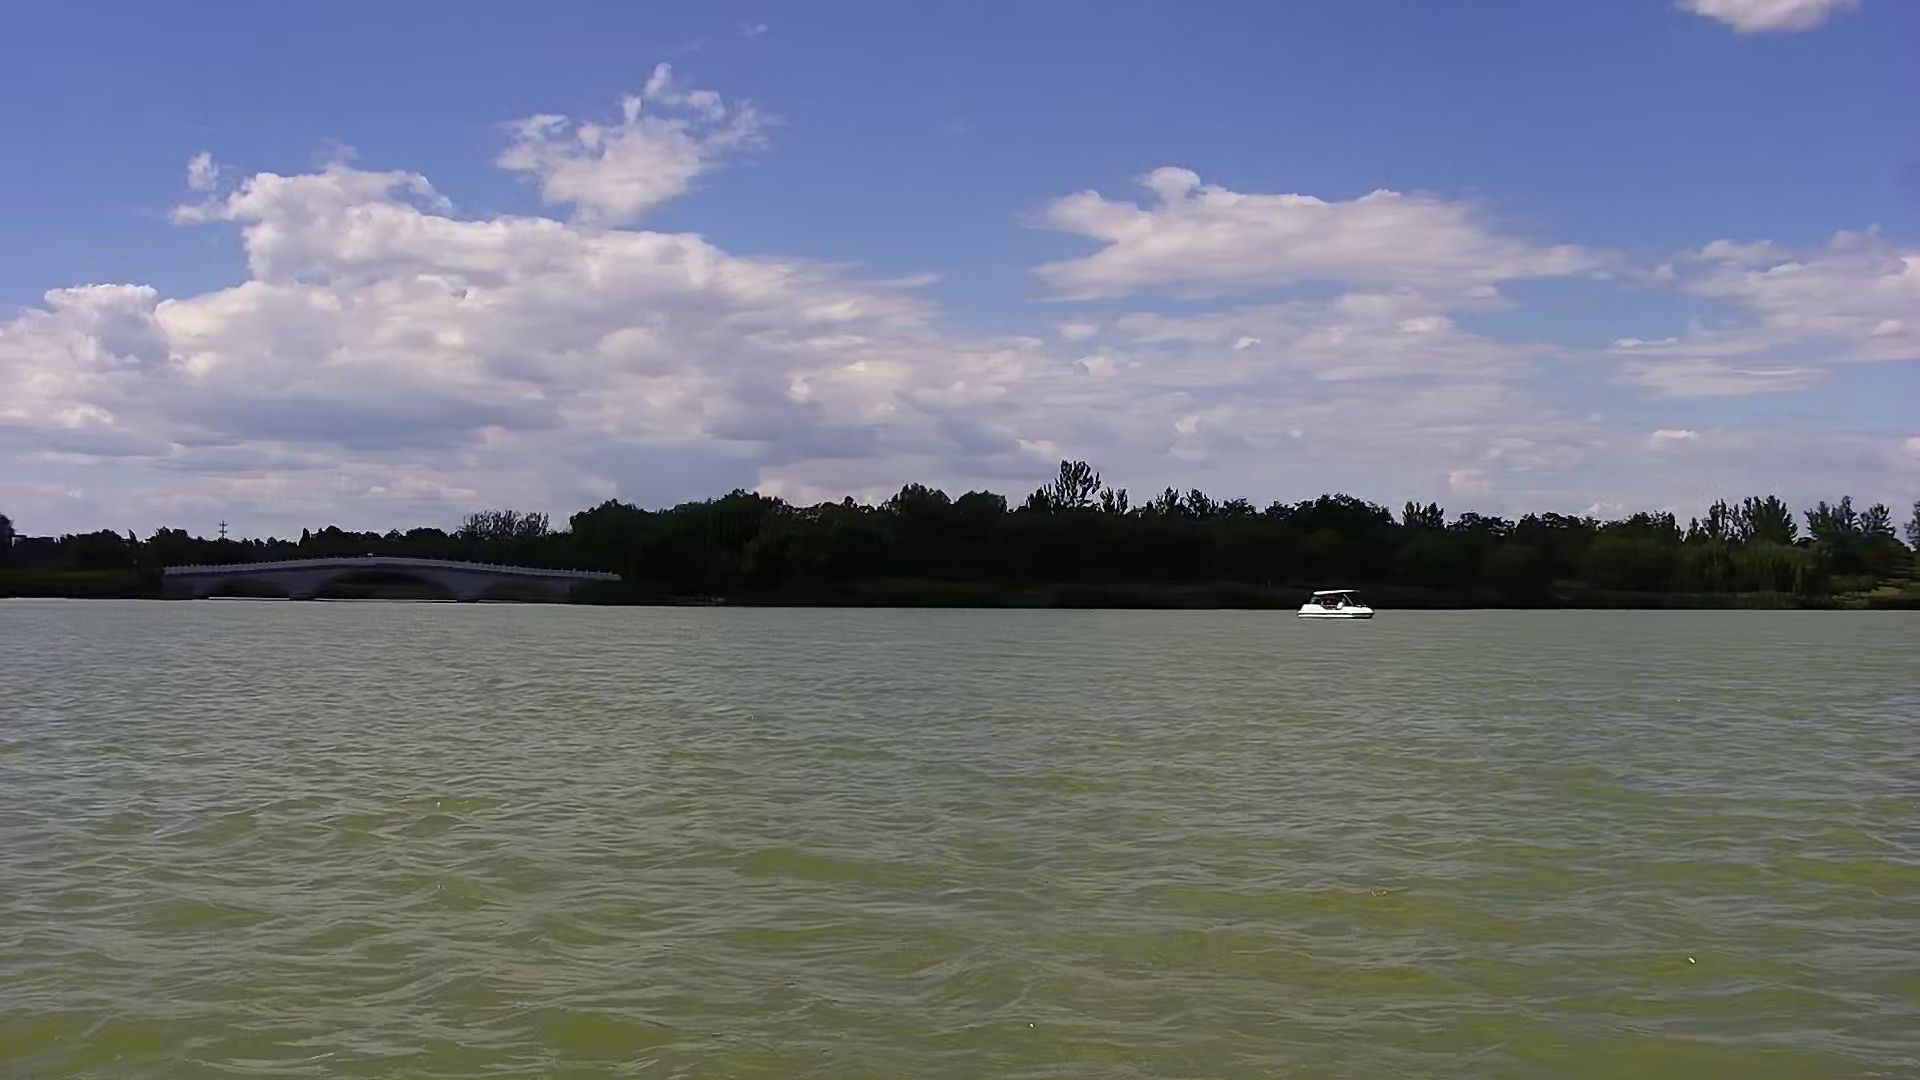boat: (1298, 584, 1374, 629)
bridge: (160, 550, 632, 612)
